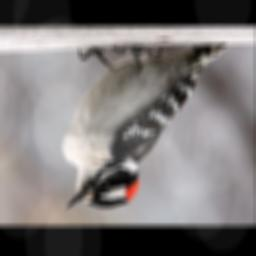Woodpecker: (60, 42, 227, 209)
